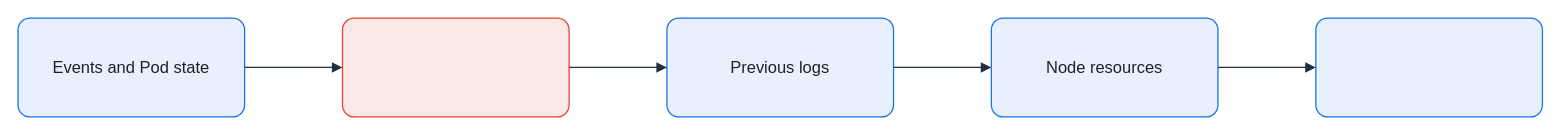
The diagram is 1561 pixels wide and 136 high, and some of its shapes have lost their labels. Each missing label, with the box of its shape:
Hypothesis and telemetry: (1315, 17, 1543, 117)
Restarted container: (341, 17, 569, 117)
